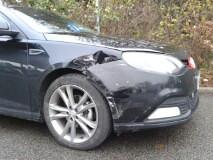fender-dent: (28, 38, 126, 82)
front-bumper-dent: (103, 67, 194, 128)
